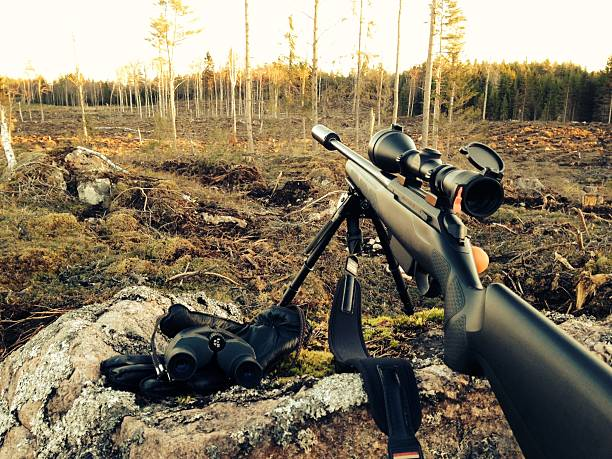rifle: (292, 112, 612, 457)
